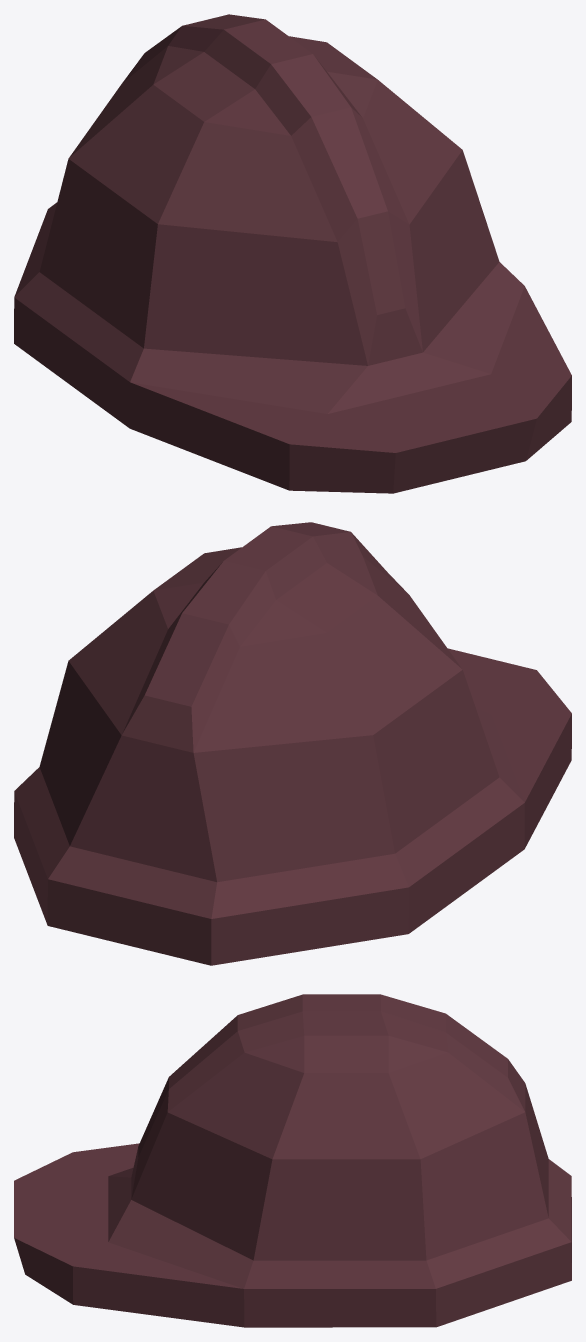
Rendered from helmet-construction.fbx.
The picture shows the model from 3 angles, top to bottom: view 1: azimuth 30°, elevation 25°; view 2: azimuth 150°, elevation 25°; view 3: azimuth 270°, elevation 25°; orthographic projection. The views are drawn at different scales.
Visible parts, largest first — view 1: helmet-construction; view 2: helmet-construction; view 3: helmet-construction.
Boxes of the visible parts, bbox=[...] form: helmet-construction: bbox=[14, 14, 571, 493]; helmet-construction: bbox=[14, 522, 571, 965]; helmet-construction: bbox=[14, 994, 571, 1327].
Bounding box in the file's own units: 0.2265 × 0.1621 × 0.3348.
